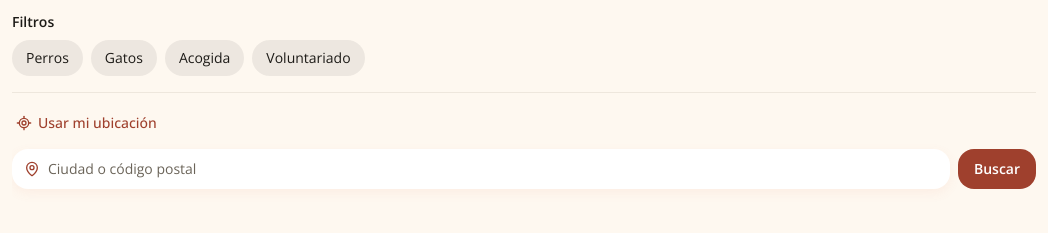
Test case: MapaFiltros › ciudad no encontrada muestra mensaje claro
This screenshot has width=1048, height=233.
Type "Ciudad Inventada" into the field labelled "Ciudad o código postal" at {"x": 493, "y": 169}, box top-left (48, 159), bottom-right (938, 179)
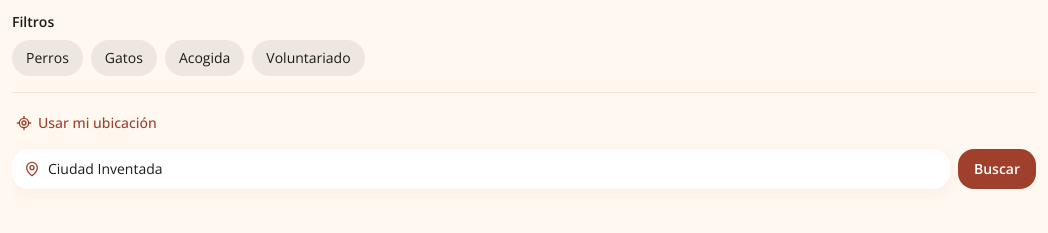
Click the button "Buscar" at {"x": 997, "y": 169}, box top-left (958, 149), bottom-right (1036, 189)
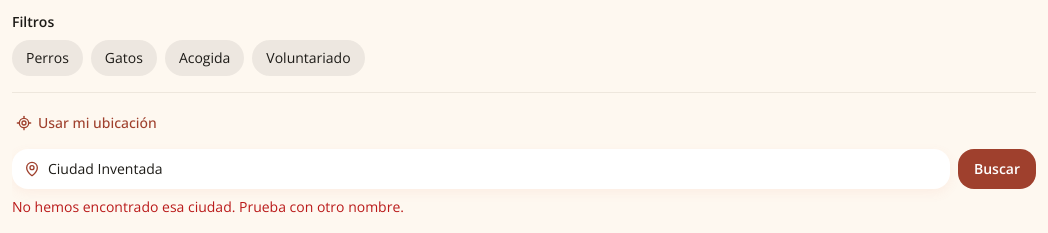
expect the text "No hemos encontrado esa ciudad. Prueba con otro nombre." is shown: met, box top-left (12, 197), bottom-right (404, 216)
